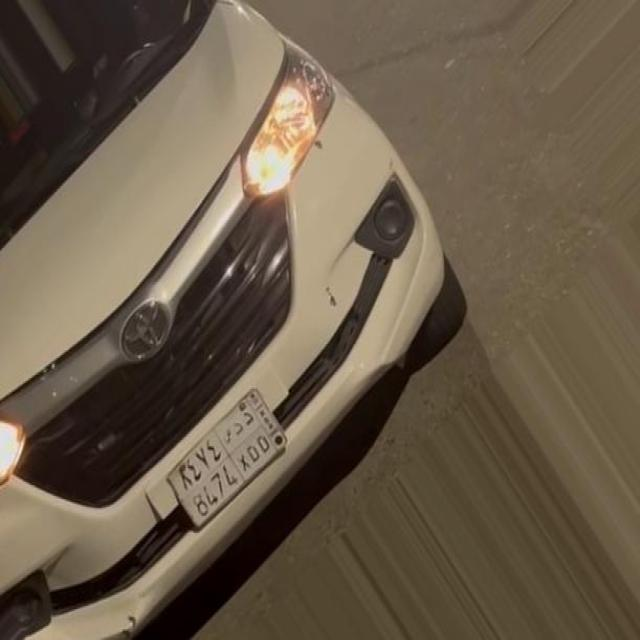Car-plate: (152, 366, 309, 555)
